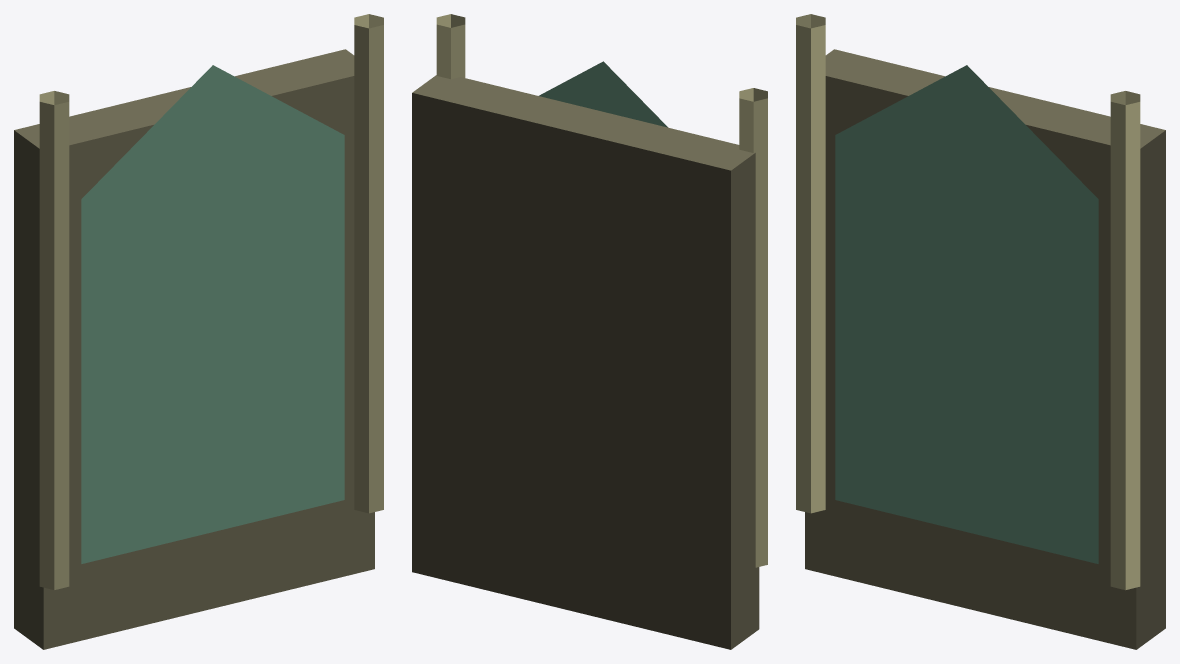
The picture shows the model from 3 angles, left to right: view 1: azimuth 30°, elevation 25°; view 2: azimuth 150°, elevation 25°; view 3: azimuth 330°, elevation 25°; orthographic projection. The views are drawn at different scales.
Visible parts, largest first — view 1: b5fc1449c6a68e45021e78b64e4be37508803650859b9efca6f14f49faf5; view 2: b5fc1449c6a68e45021e78b64e4be37508803650859b9efca6f14f49faf5; view 3: b5fc1449c6a68e45021e78b64e4be37508803650859b9efca6f14f49faf5.
Boxes of the visible parts, x1,y1,x2,y2 form: b5fc1449c6a68e45021e78b64e4be37508803650859b9efca6f14f49faf5: [14, 14, 383, 649]; b5fc1449c6a68e45021e78b64e4be37508803650859b9efca6f14f49faf5: [412, 14, 767, 649]; b5fc1449c6a68e45021e78b64e4be37508803650859b9efca6f14f49faf5: [796, 14, 1165, 649].
Bounding box in the file's own units: 0.81 × 1.24 × 0.1603.
Materials: 3 (1 with a texture image).
